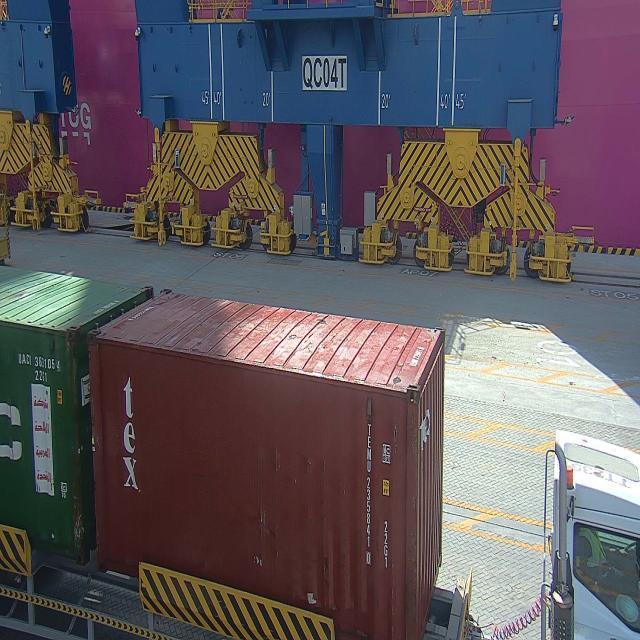dent: (391, 416, 403, 462), (297, 455, 317, 475)
